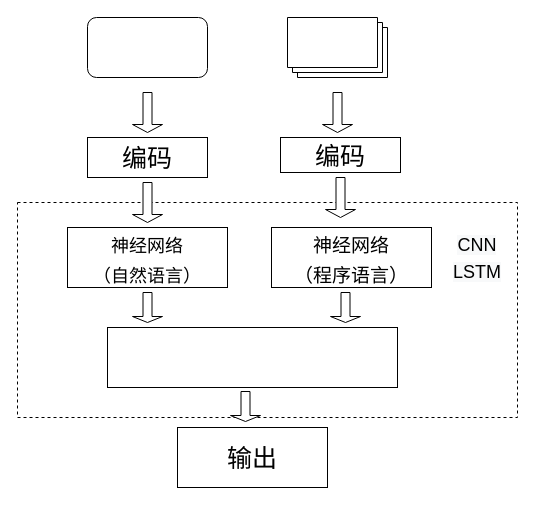
Some shapes in this 535 by 505 pixel diagram are drawn without their labels. Here are the shapes that lost their labels. From the top down, the centre of each, then its label:
At (x=147, y=47): "缺陷报告".
At (x=337, y=47): "源文件".
At (x=252, y=357): "全连接层".
